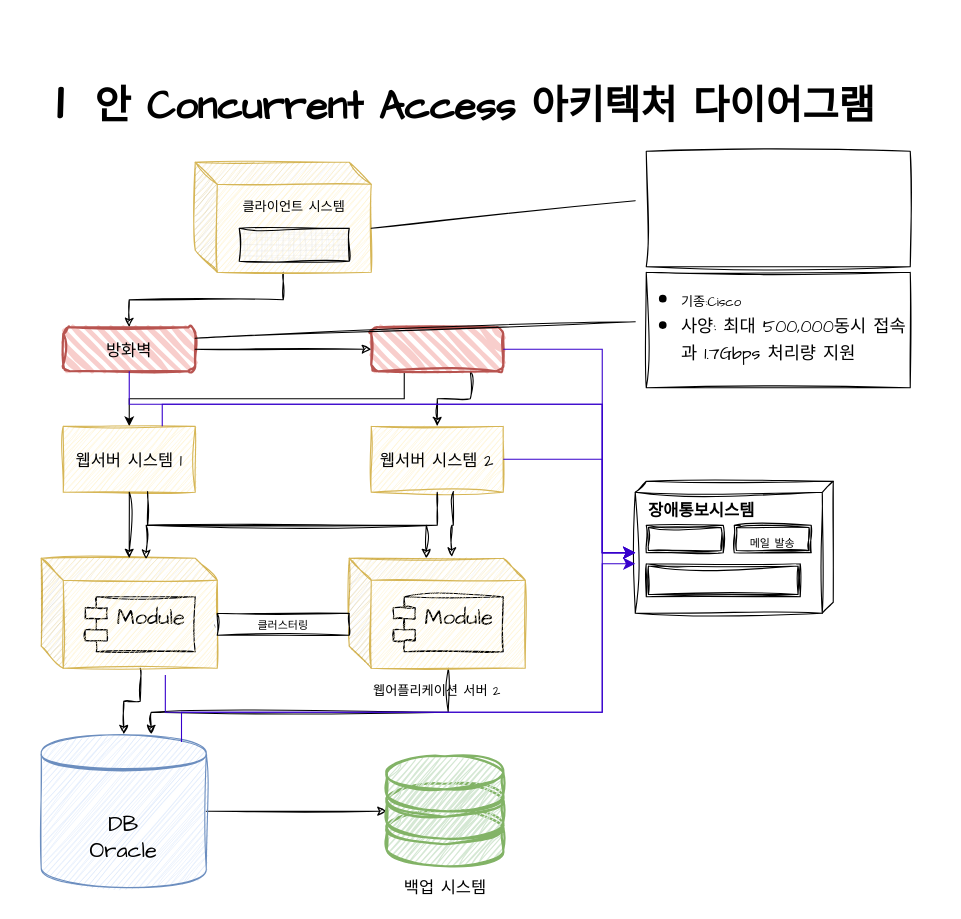
This 961x919 diagram has some shape labels left out. The centre of each missing label's shape, as x and y in pixels:
"L4 Switch" goes at (x=437, y=349).
"SMS발송" goes at (x=684, y=538).
"기종:펜티엄 4이상 운영체제: Win XP 이상 웹브라우저 : IE 6.0이상" goes at (x=777, y=208).
"사내 비상경보음 작동" goes at (x=722, y=580).
"웹브라우저" goes at (x=293, y=244).
"웹어플리케이션서버 1" goes at (x=128, y=612).
